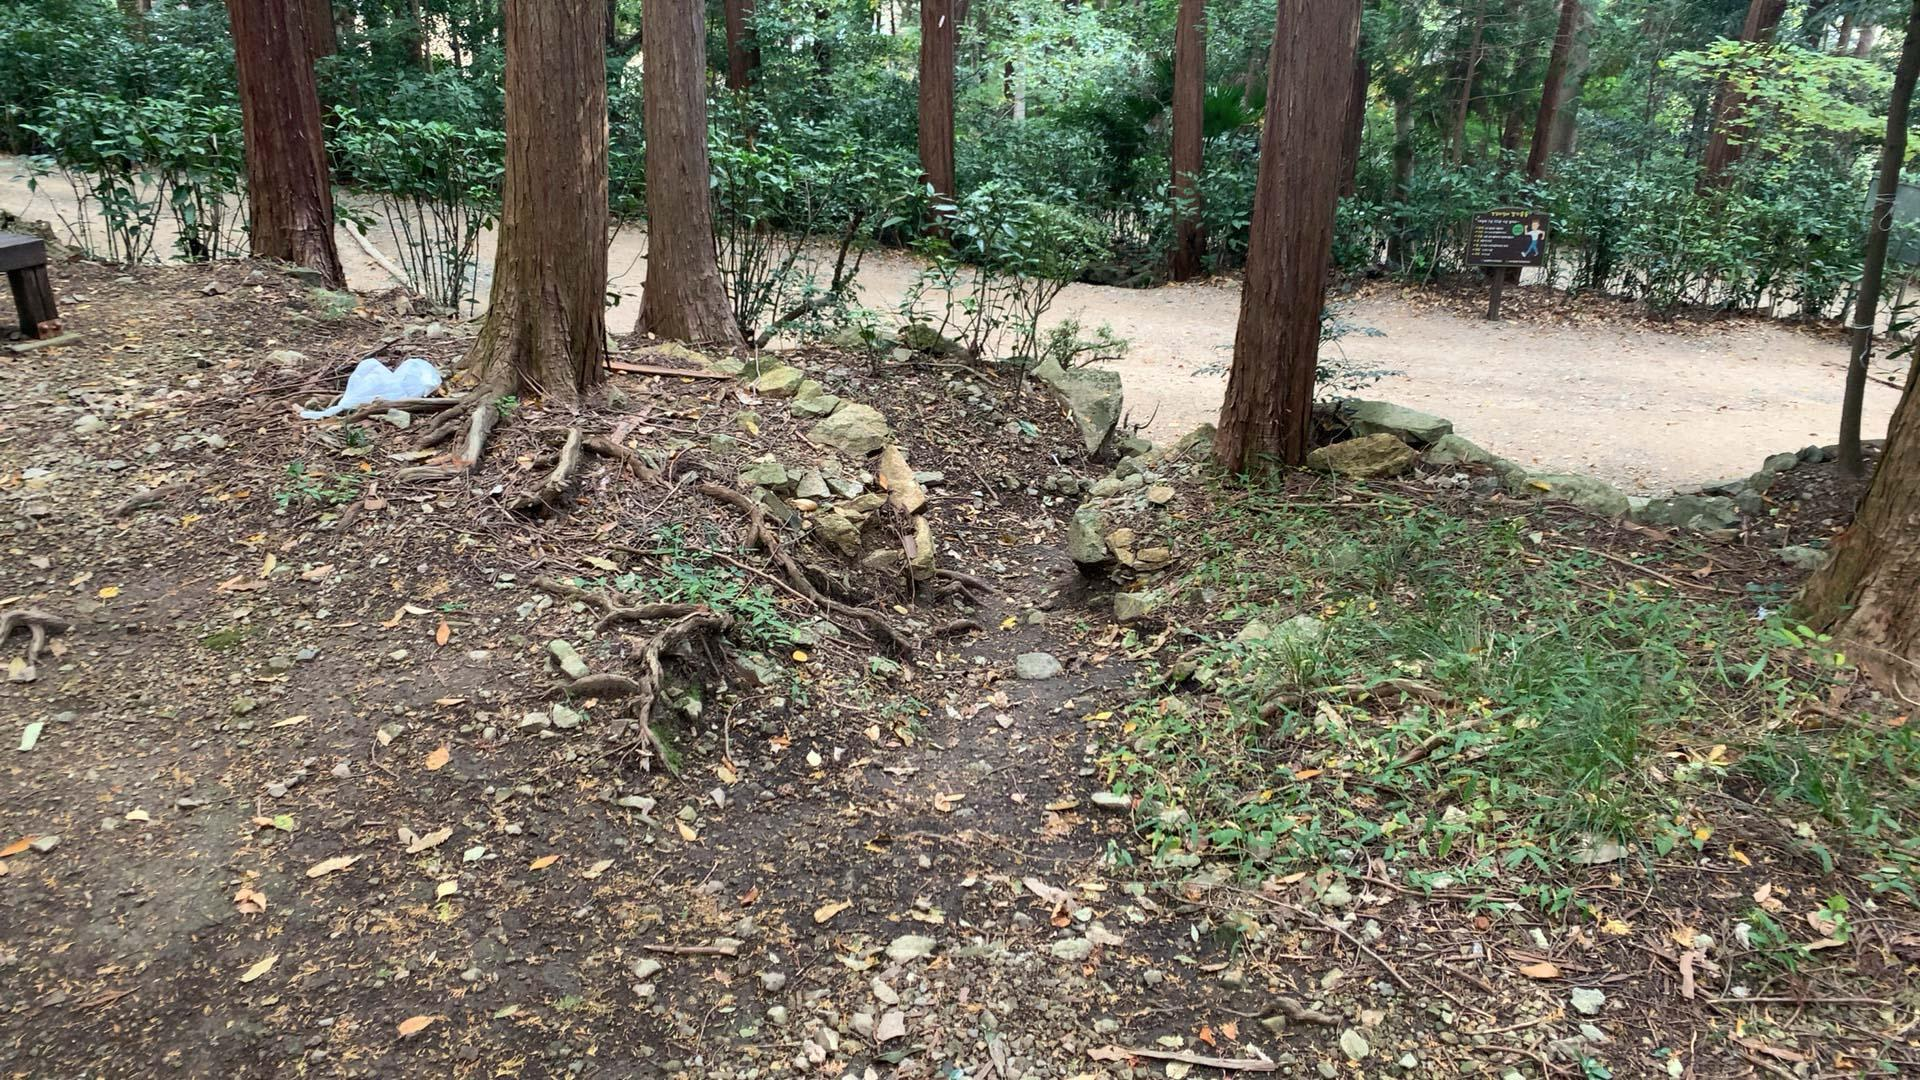white_bag: (295, 345, 448, 431)
